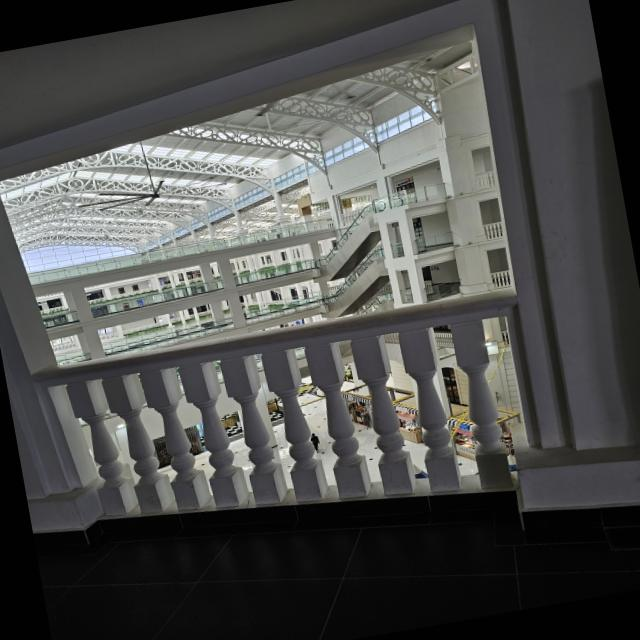footpath: (45, 497, 640, 640)
obstacle: (42, 283, 554, 550)
